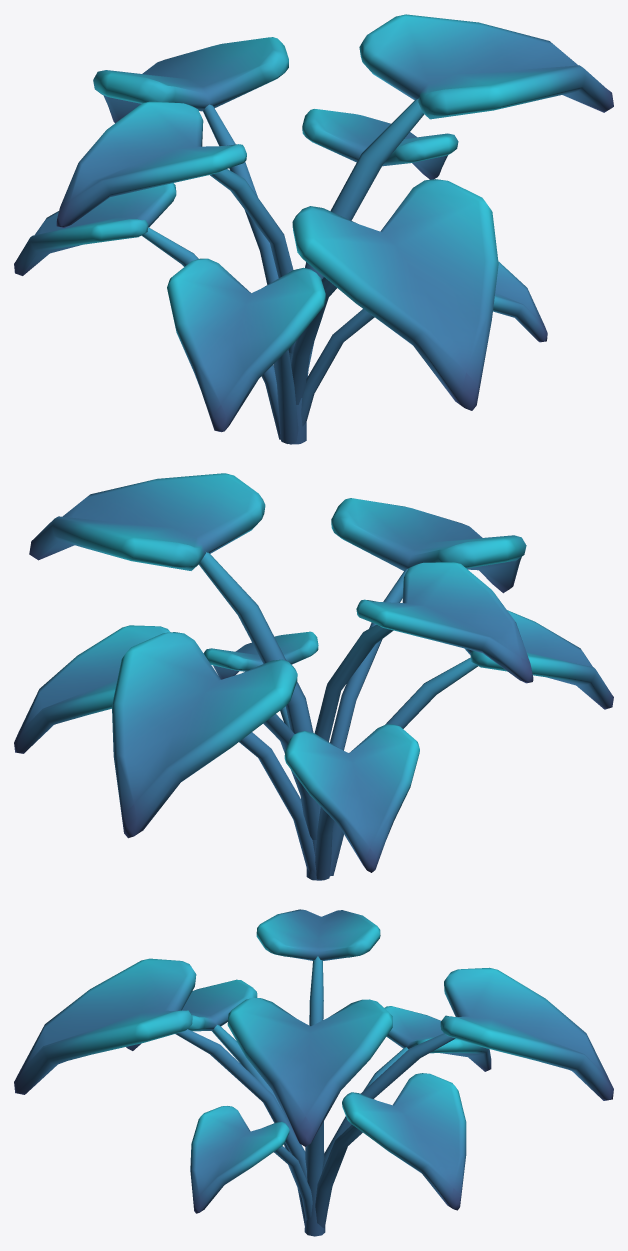
The model's file is Plants_038.fbx.
3 views of the same model, one above another, from view 1: azimuth 30°, elevation 25°; view 2: azimuth 150°, elevation 25°; view 3: azimuth 270°, elevation 25° (orthographic). The views are drawn at different scales.
Parts seen in each view (by area): view 1: Plants.038; view 2: Plants.038; view 3: Plants.038.
Part boxes in pixels (x1,y1,x2,y2): Plants.038: [14, 14, 613, 444]; Plants.038: [14, 473, 613, 880]; Plants.038: [14, 909, 613, 1236].
Bounding box in the file's own units: 1109 × 686 × 1340.
